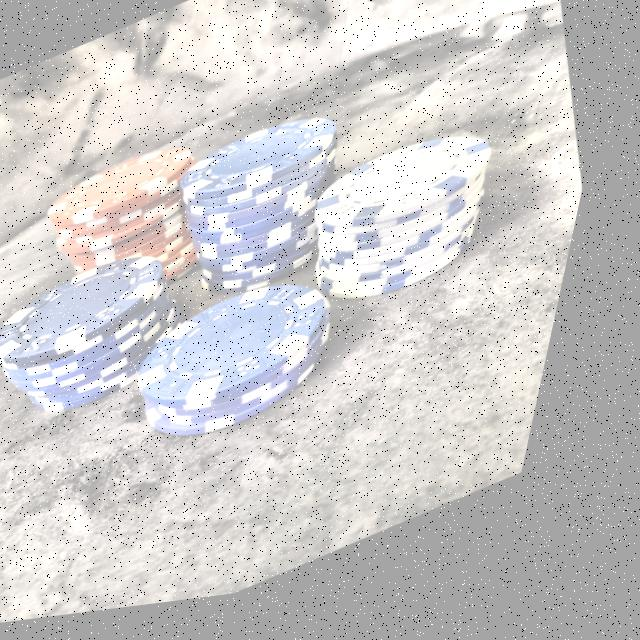Chip: (106, 241, 393, 487), (280, 98, 552, 353), (155, 86, 394, 341), (0, 224, 220, 456), (30, 129, 241, 326)
